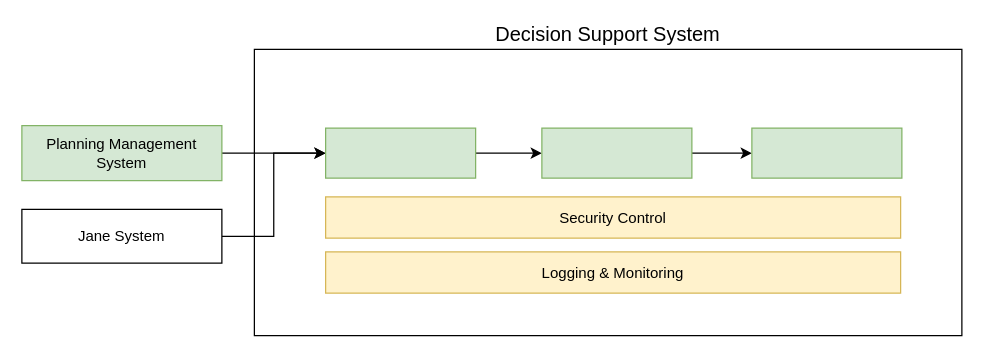
The diagram is 984 pixels wide and 358 high, and some of its shapes have lost their labels. Here are the shapes that lost their labels. From the top down, the box of each, then its label:
(324, 127, 476, 178): Data Integration
(541, 127, 692, 178): Data Model
(751, 127, 902, 178): Dashboard & Reports
